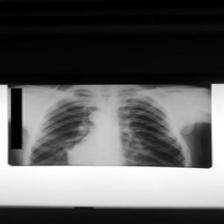tuberculosis: (25, 84, 189, 167)
